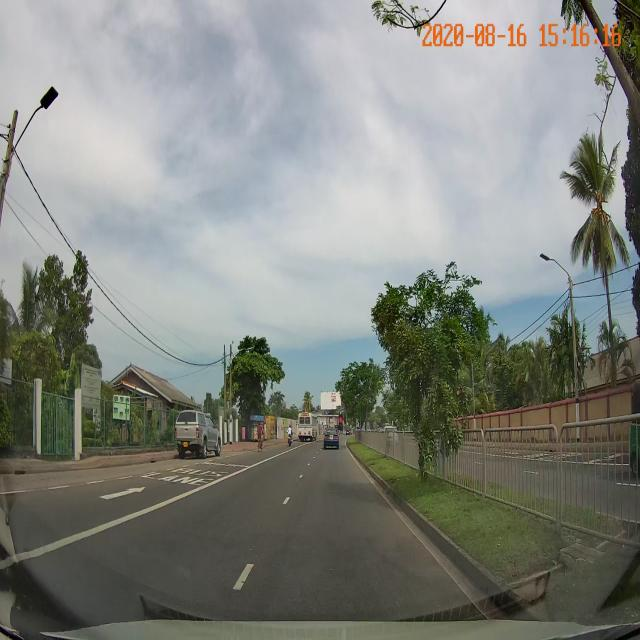BUS LANE: (134, 466, 234, 488)
Strelka vpered: (96, 486, 148, 501)
